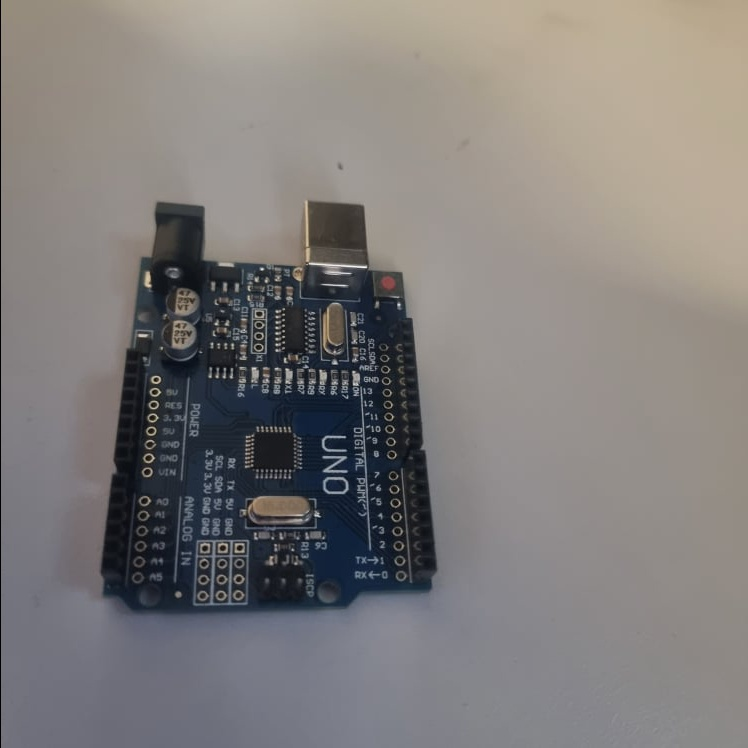UNO R3: (97, 196, 439, 622)
